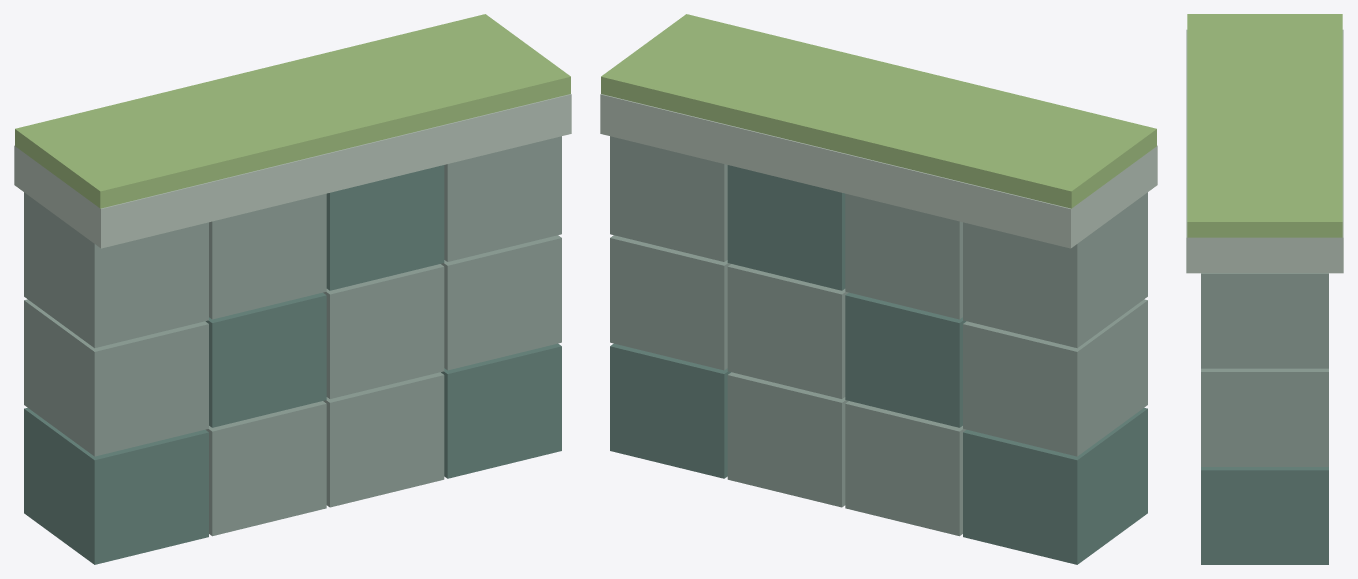
The model's file is wall-straight-mossy.glb.
3 renders of one model, left to right at view 1: azimuth 30°, elevation 25°; view 2: azimuth 150°, elevation 25°; view 3: azimuth 270°, elevation 25°, orthographic. The views are drawn at different scales.
Visible parts, largest first — view 1: wall-straight-kit-mossy-stone, wall-straight-kit-mossy-shade, wall-straight-kit-mossy-top, wall-straight-kit-mossy-light; view 2: wall-straight-kit-mossy-stone, wall-straight-kit-mossy-shade, wall-straight-kit-mossy-top, wall-straight-kit-mossy-light; view 3: wall-straight-kit-mossy-top, wall-straight-kit-mossy-stone, wall-straight-kit-mossy-shade, wall-straight-kit-mossy-light.
Part boxes in pixels (x1=…): wall-straight-kit-mossy-stone: x1=24, y1=136, x2=561, y2=536; wall-straight-kit-mossy-shade: x1=24, y1=165, x2=561, y2=564; wall-straight-kit-mossy-top: x1=15, y1=14, x2=570, y2=208; wall-straight-kit-mossy-light: x1=14, y1=94, x2=571, y2=248; wall-straight-kit-mossy-stone: x1=610, y1=136, x2=1147, y2=536; wall-straight-kit-mossy-shade: x1=610, y1=165, x2=1147, y2=564; wall-straight-kit-mossy-top: x1=601, y1=14, x2=1156, y2=208; wall-straight-kit-mossy-light: x1=600, y1=94, x2=1157, y2=248; wall-straight-kit-mossy-top: x1=1187, y1=14, x2=1342, y2=237; wall-straight-kit-mossy-stone: x1=1201, y1=273, x2=1328, y2=466; wall-straight-kit-mossy-shade: x1=1201, y1=467, x2=1328, y2=564; wall-straight-kit-mossy-light: x1=1186, y1=29, x2=1343, y2=273.
Bounding box in the file's own units: 2 × 1.54 × 0.64.
